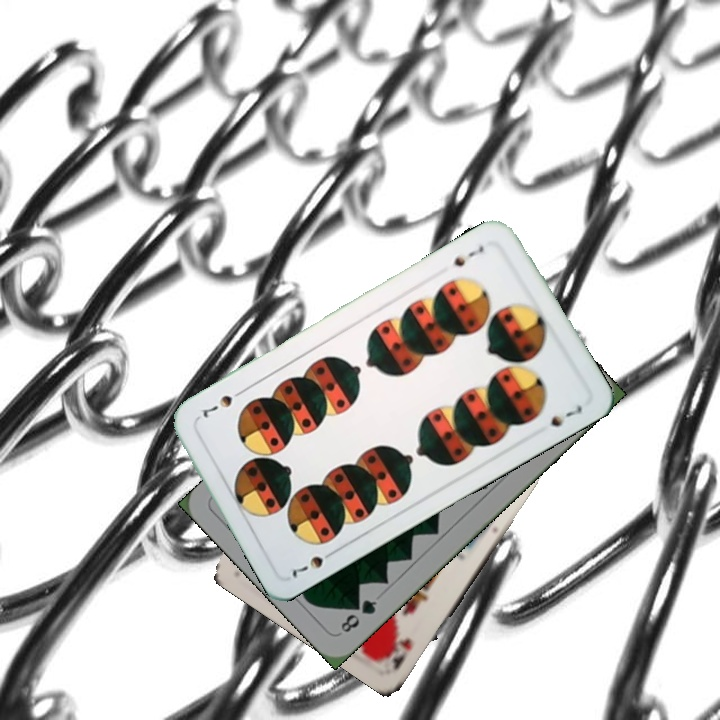G8: (336, 595, 380, 636)
HK: (382, 633, 415, 673)
S7: (288, 545, 340, 580), (449, 241, 487, 269)
